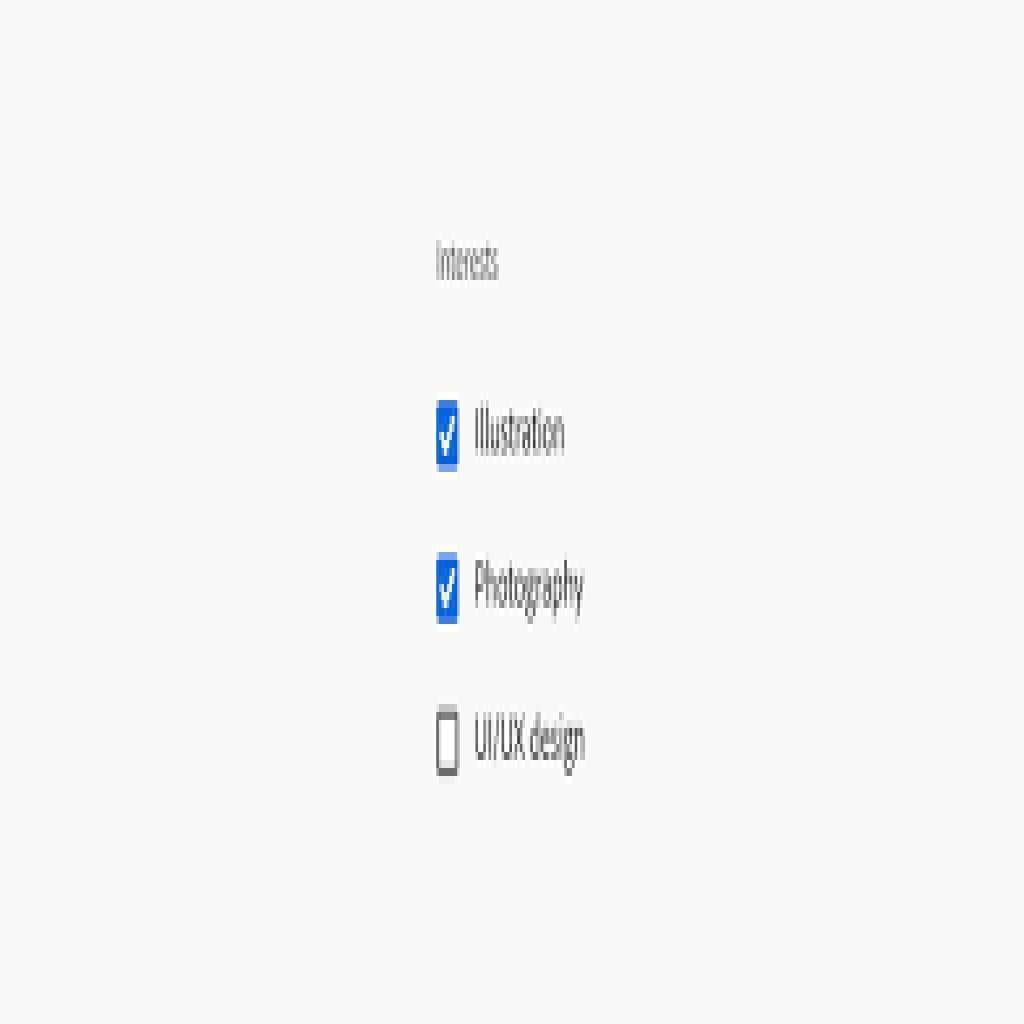checkbox: (435, 400, 462, 471), (437, 550, 462, 625), (436, 704, 461, 774)
label: (471, 553, 588, 624), (471, 706, 591, 775), (470, 397, 571, 463)
